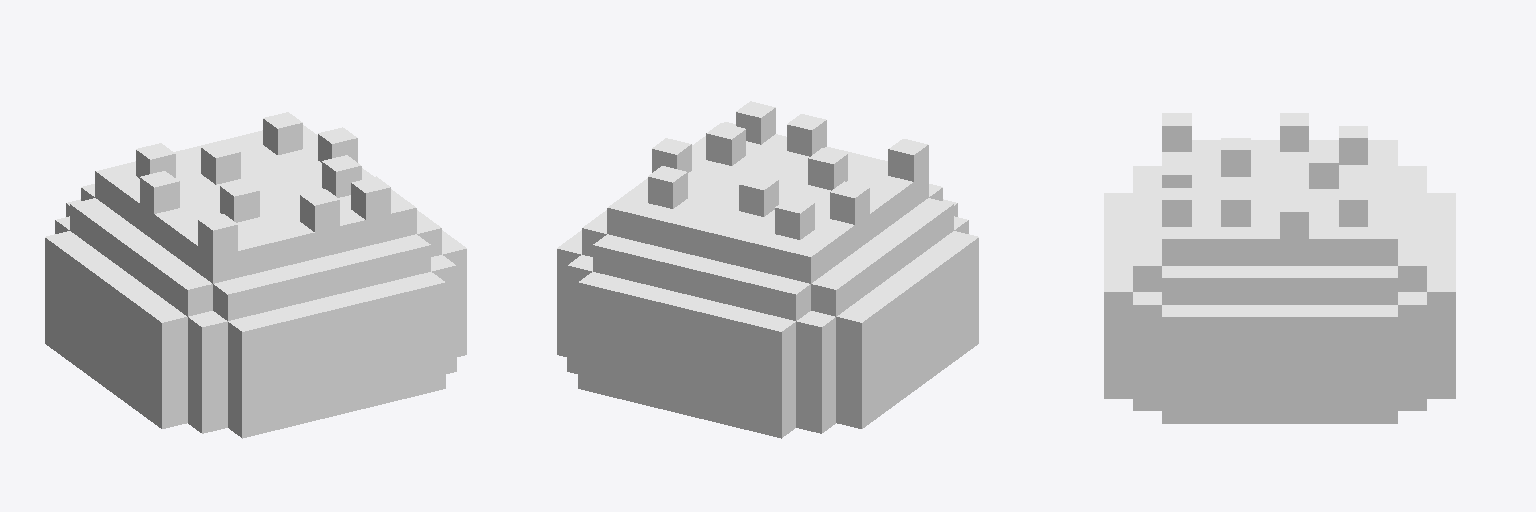
Rendered from SnowGlobeBottom.obj.
The picture shows the model from 3 angles: view 1: azimuth 30°, elevation 25°; view 2: azimuth 150°, elevation 25°; view 3: azimuth 270°, elevation 25°; orthographic projection.
Visible parts, largest first — view 1: object 1; view 2: object 1; view 3: object 1.
Boxes of the visible parts, x1=… form: object 1: x1=45, y1=112, x2=466, y2=438; object 1: x1=557, y1=101, x2=978, y2=438; object 1: x1=1104, y1=113, x2=1455, y2=423.
Size of the model in its own units: 1.2 by 0.7 by 1.2.